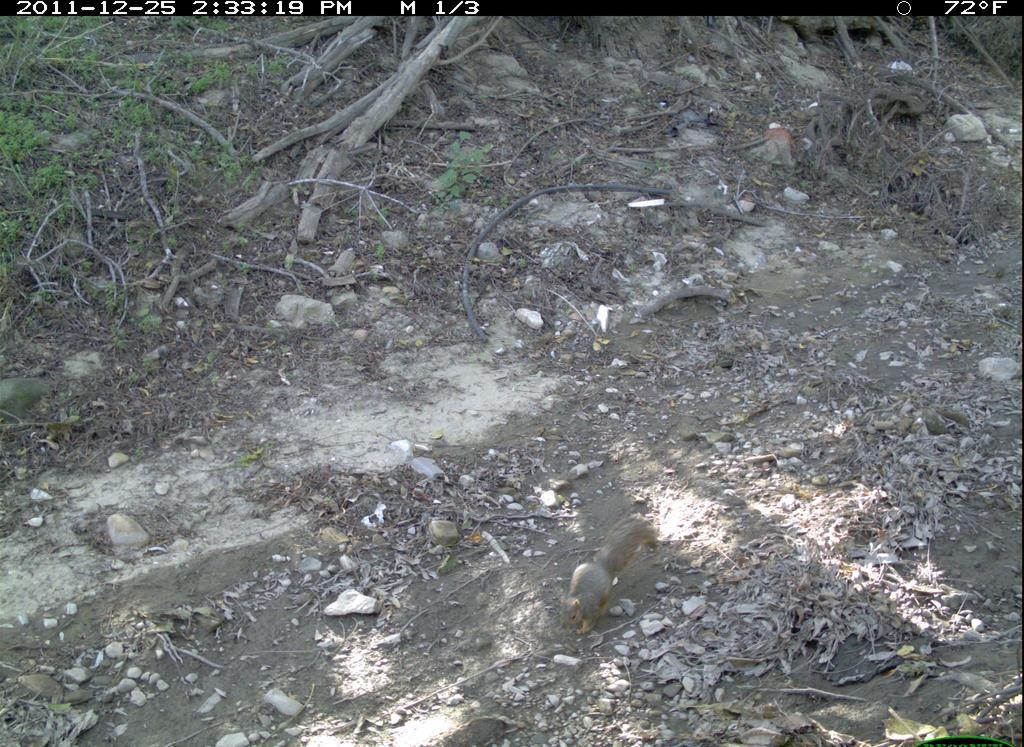squirrel: (556, 513, 679, 647)
